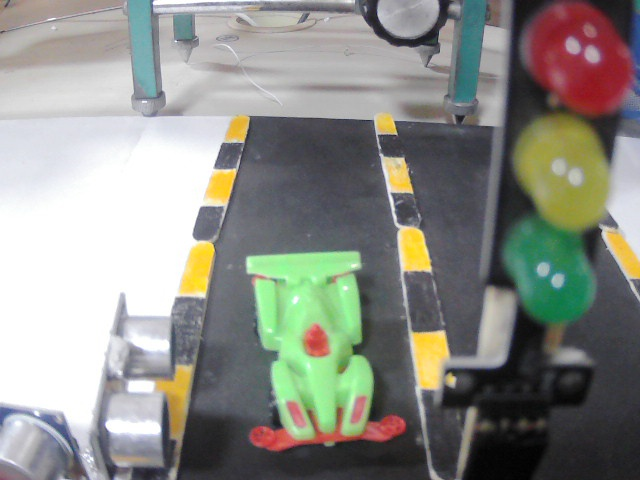car: (235, 256, 441, 468)
traffic_light: (513, 11, 640, 336)
uno_breadboard: (87, 295, 202, 467), (0, 389, 95, 480)
